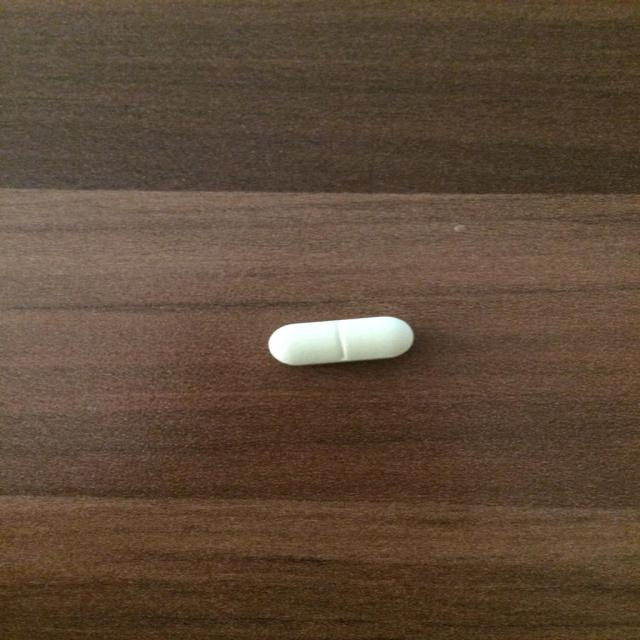pills: (250, 305, 432, 378)
